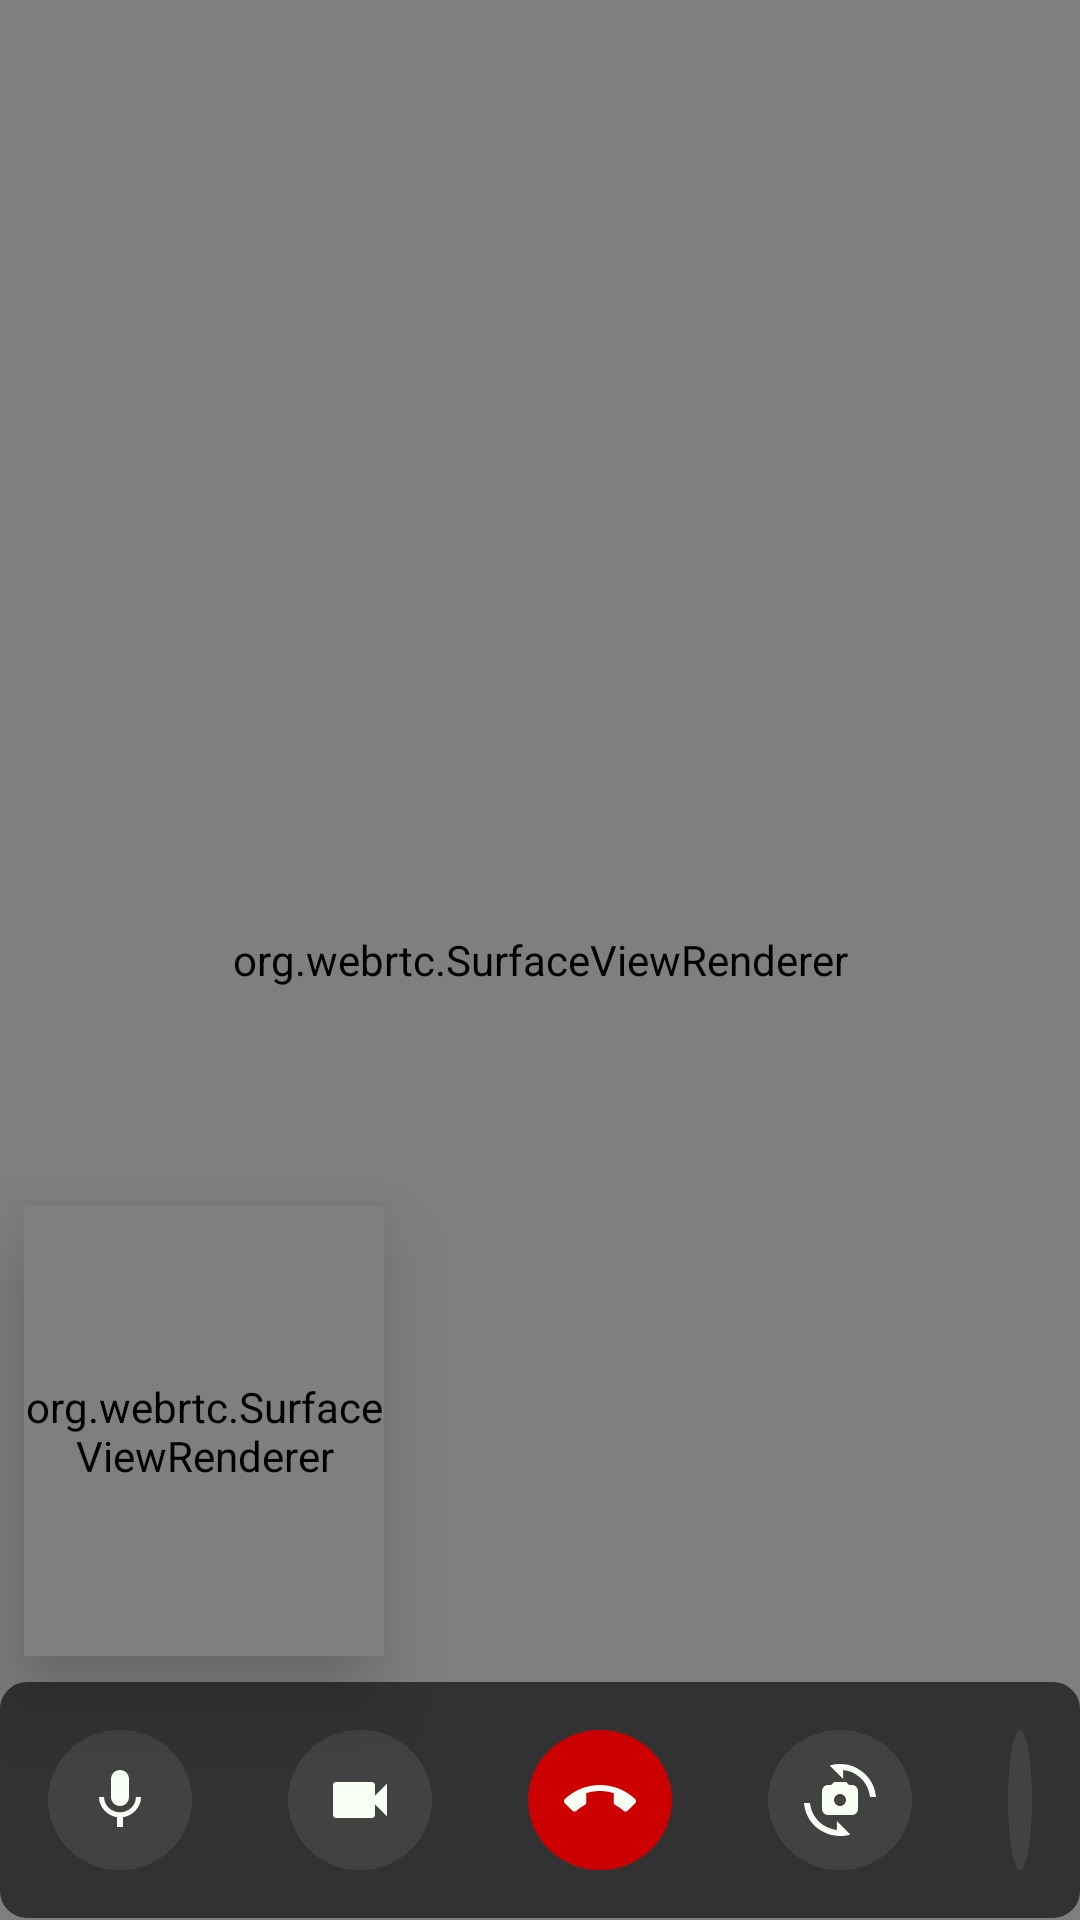

Point at icon controls on the screen. Image size 1080x1920, points as point (x, y).
call end: point (600, 1800)
cameraswitch: point (840, 1800)
mic: point (120, 1800)
videocam: point (360, 1800)
